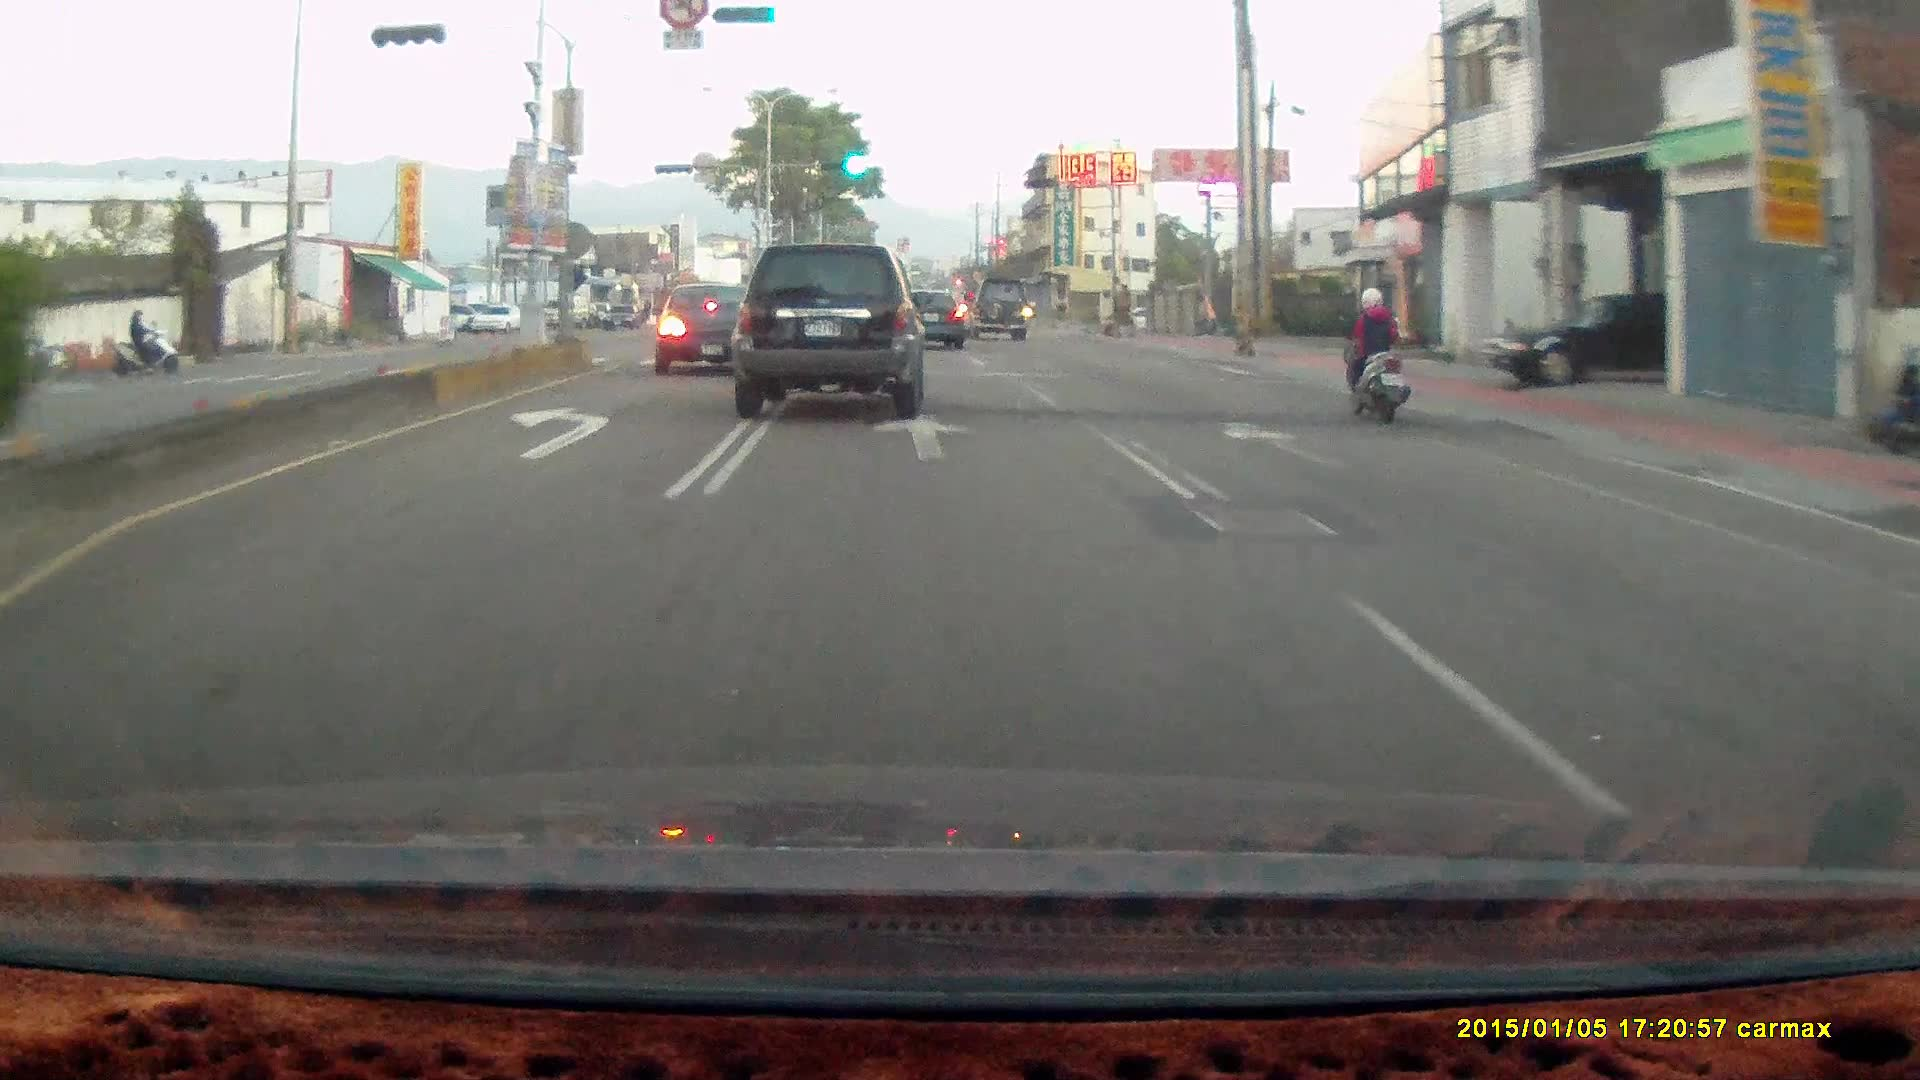rider: (1329, 278, 1419, 432), (1333, 286, 1409, 421), (93, 304, 184, 379)
vehicle: (736, 251, 934, 436), (731, 244, 931, 419), (1480, 293, 1751, 390), (1490, 293, 1680, 390), (654, 282, 766, 376), (657, 282, 762, 380), (962, 277, 1031, 344), (890, 289, 964, 350), (895, 290, 967, 351), (963, 277, 1030, 340), (467, 302, 530, 335), (531, 299, 586, 328), (602, 304, 641, 329)
